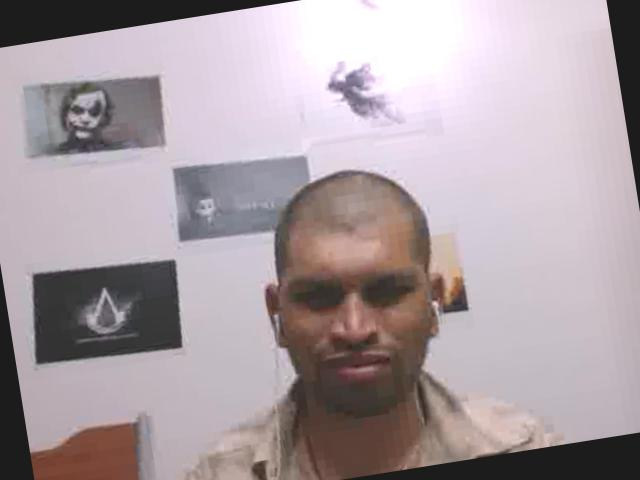bingung: (272, 207, 449, 415)
